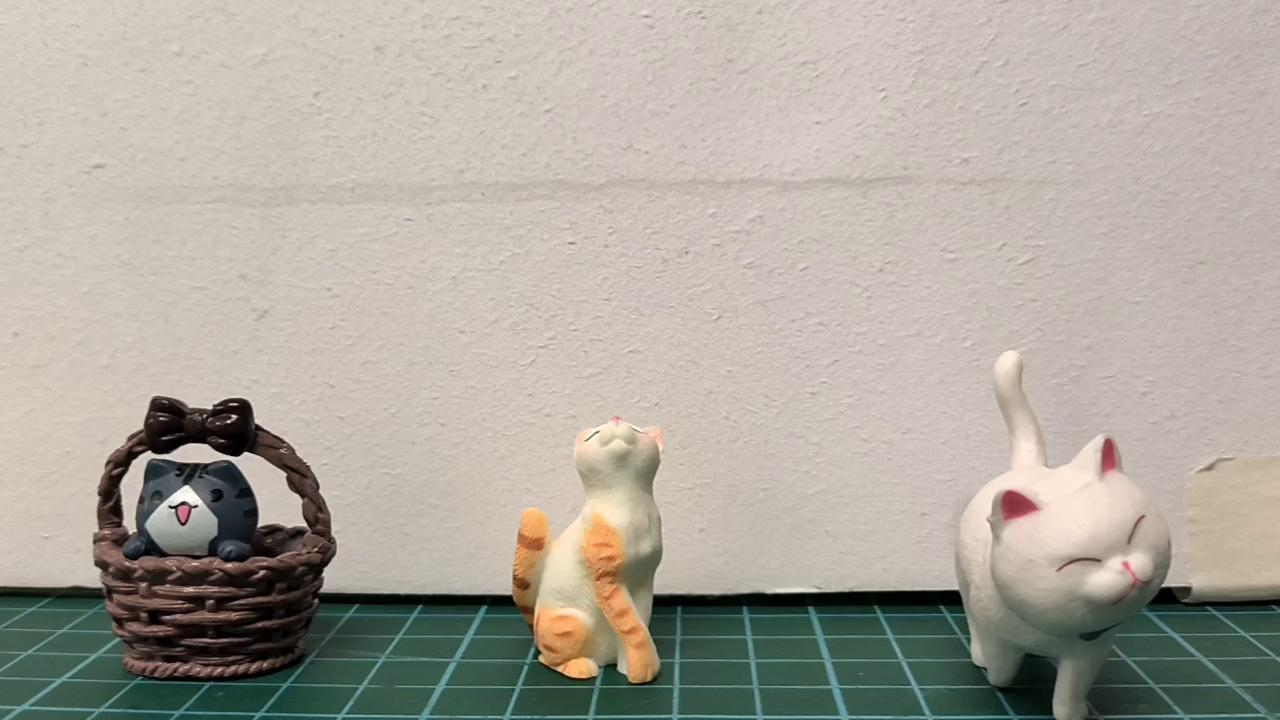pet: (956, 346, 1174, 719), (511, 418, 665, 683), (123, 453, 258, 566)
